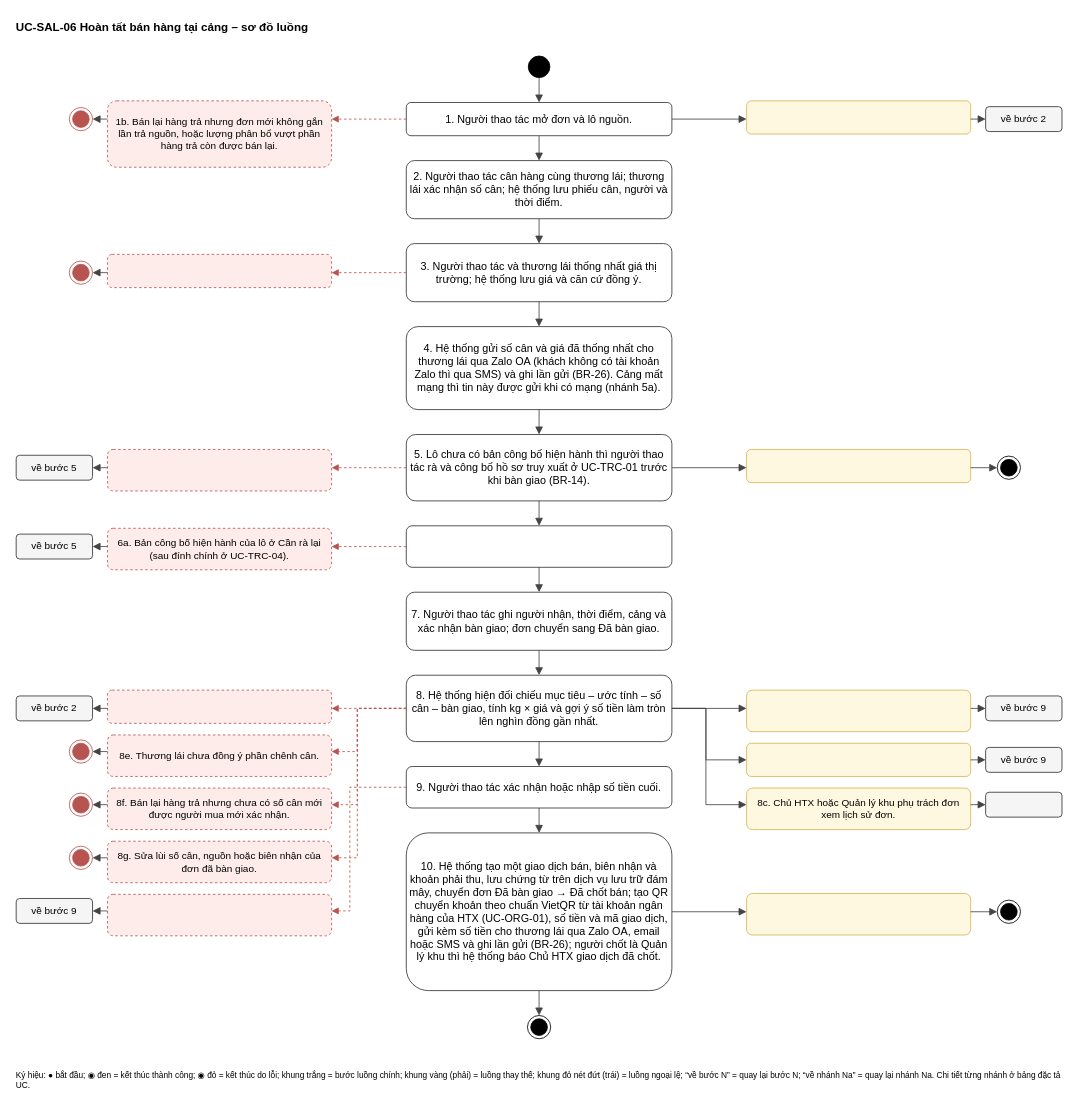
Image size: 1077x1112. Some labels were removed from this diagram. Here are the shapes that lost their labels. From the top down, the centre of each, then its label:
At point 858,117: "1a. Bán lại hàng trả.".
At point 219,271: "3a. Hai bên chưa thống nhất giá.".
At point 219,470: "5b. Hồ sơ rà ở UC-TRC-01 chưa đạt khi có mạng.".
At point 858,466: "5a. Cảng mất mạng.".
At point 538,546: "6. Hệ thống kiểm phiếu cân, giá và QR trỏ đúng bản công bố hiện hành.".
At point 219,706: "8d. Thiếu giá hoặc số cân chốt.".
At point 858,710: "8a. Điều khoản đơn đã được sửa trước khi giao (UC-SAL-04 nhánh 1c).".
At point 858,759: "8b. Số cân chênh mục tiêu.".
At point 1023,804: "về bước 8".
At point 219,914: "9a. Số tiền nhập không phải bội số 1.000 VND.".
At point 858,914: "10a. Bấm lặp hoặc mất kết nối khi đang chốt.".
